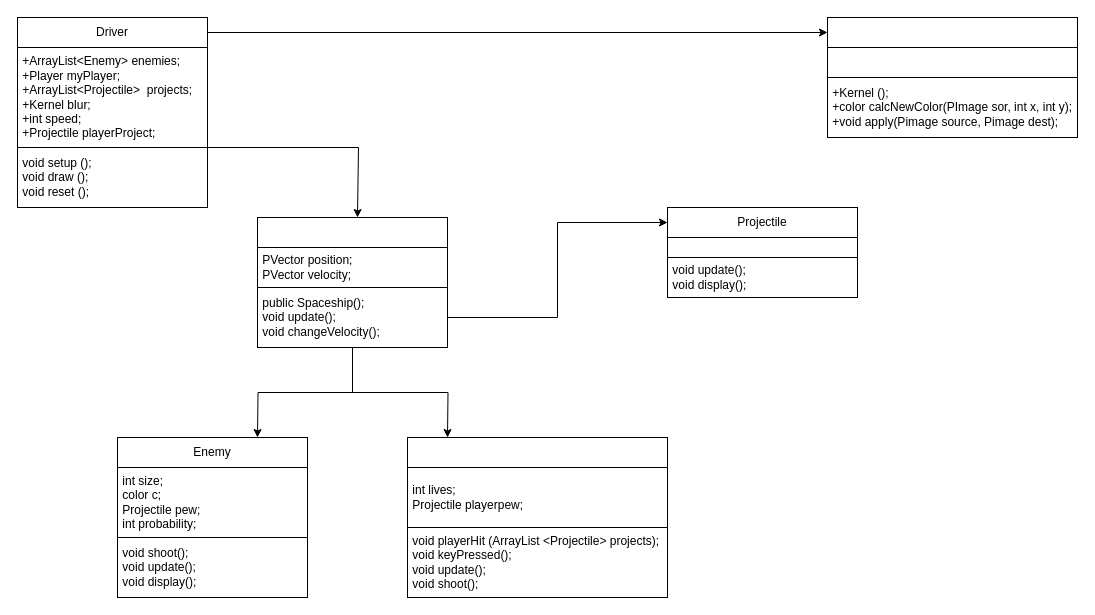
Some shapes in this 1095 by 615 pixel diagram are drawn without their labels. Each missing label, with the box of its shape:
-float[][] Kernel;: (826, 46, 1078, 78)
Kernel: (826, 16, 1078, 48)
Player: (406, 436, 668, 468)
Spaceship: (256, 216, 448, 248)
